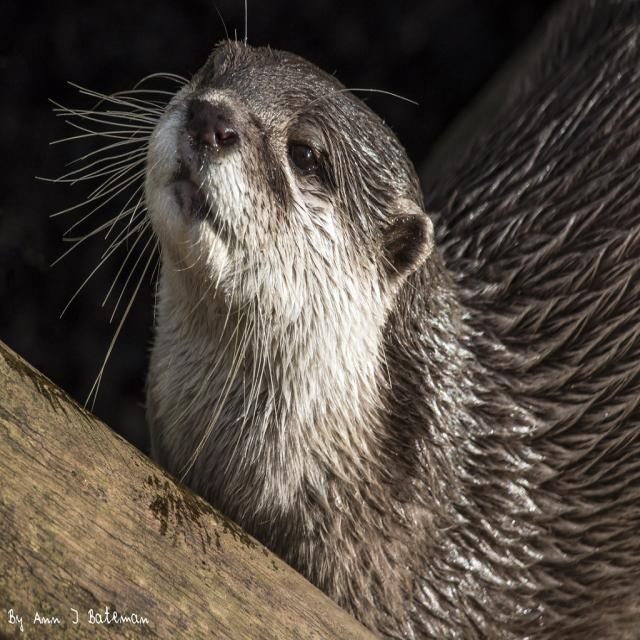otter: (147, 44, 640, 640)
